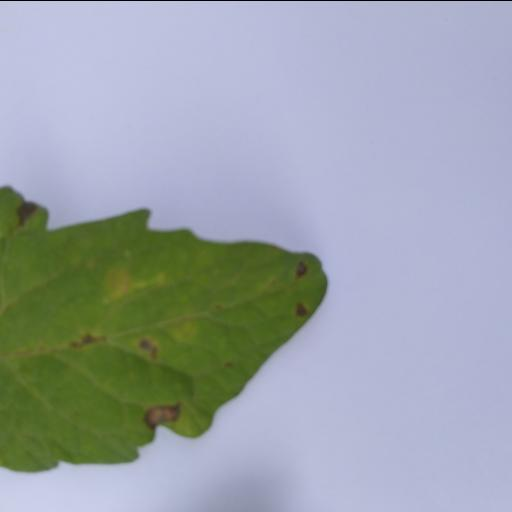Early Blight: (0, 178, 328, 472)
